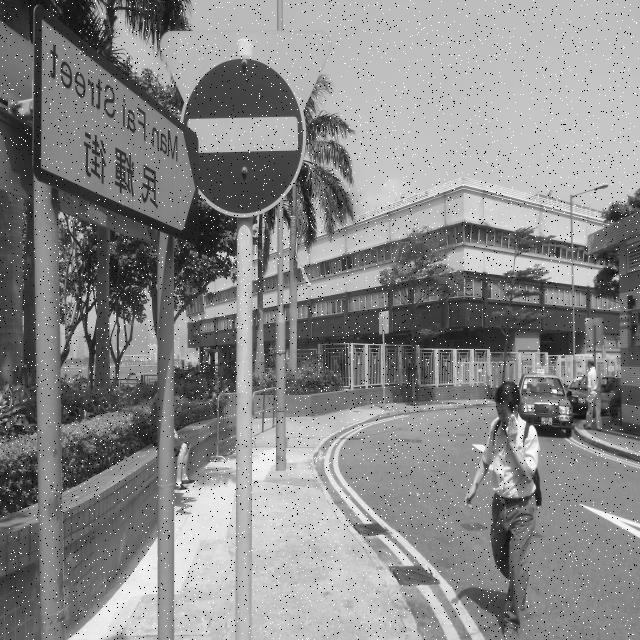no entry: (178, 50, 304, 218)
